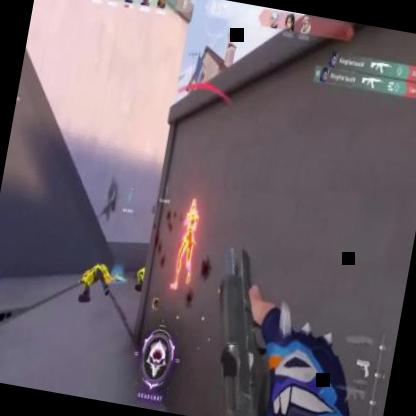enemy: (168, 197, 203, 294)
enemy_head: (188, 198, 197, 213)
